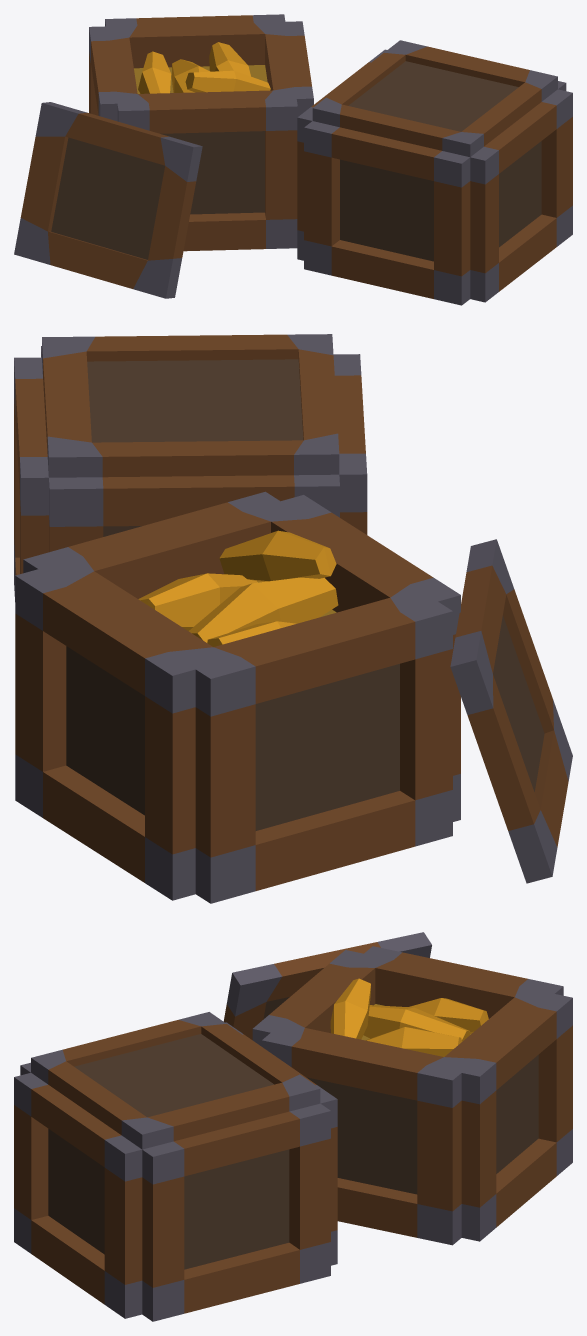
Rendered from C_CratesWithCorn.fbx.
3 renders of one model, top to bottom at view 1: azimuth 30°, elevation 25°; view 2: azimuth 150°, elevation 25°; view 3: azimuth 270°, elevation 25°, orthographic. The views are drawn at different scales.
Visible parts, largest first — view 1: C_CratesWithCorn; view 2: C_CratesWithCorn; view 3: C_CratesWithCorn.
Part boxes in pixels (box(x1,y1,x2,y2)): C_CratesWithCorn: box(14, 14, 572, 305); C_CratesWithCorn: box(14, 334, 572, 903); C_CratesWithCorn: box(14, 932, 572, 1321).
Bounding box in the file's own units: 147 × 50.96 × 138.
